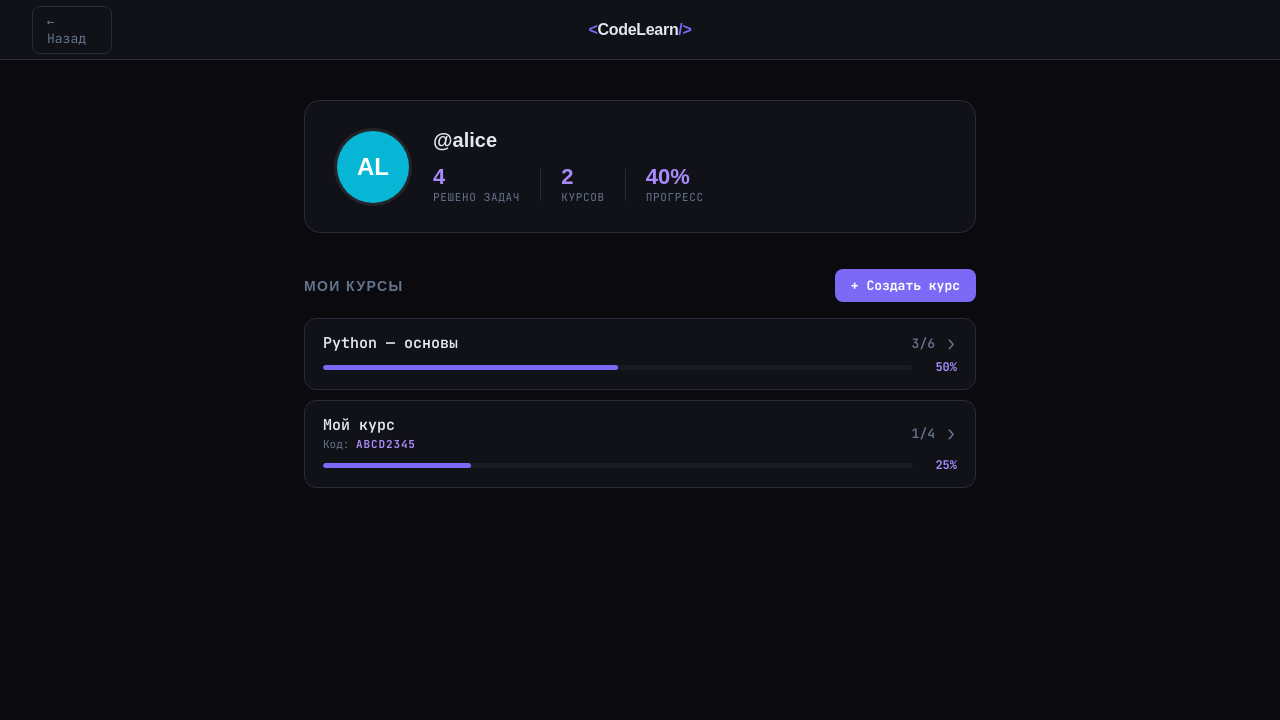
Test case: создание курса › успех: данные уходят в API, показывается код доступа, список обновляется, «Готово» закрывает форму
expect the text "Python — основы" is shown: met, box [323,333,458,353]
Click the button "+ Создать курс" at point(905, 286), box [835,269,976,302]
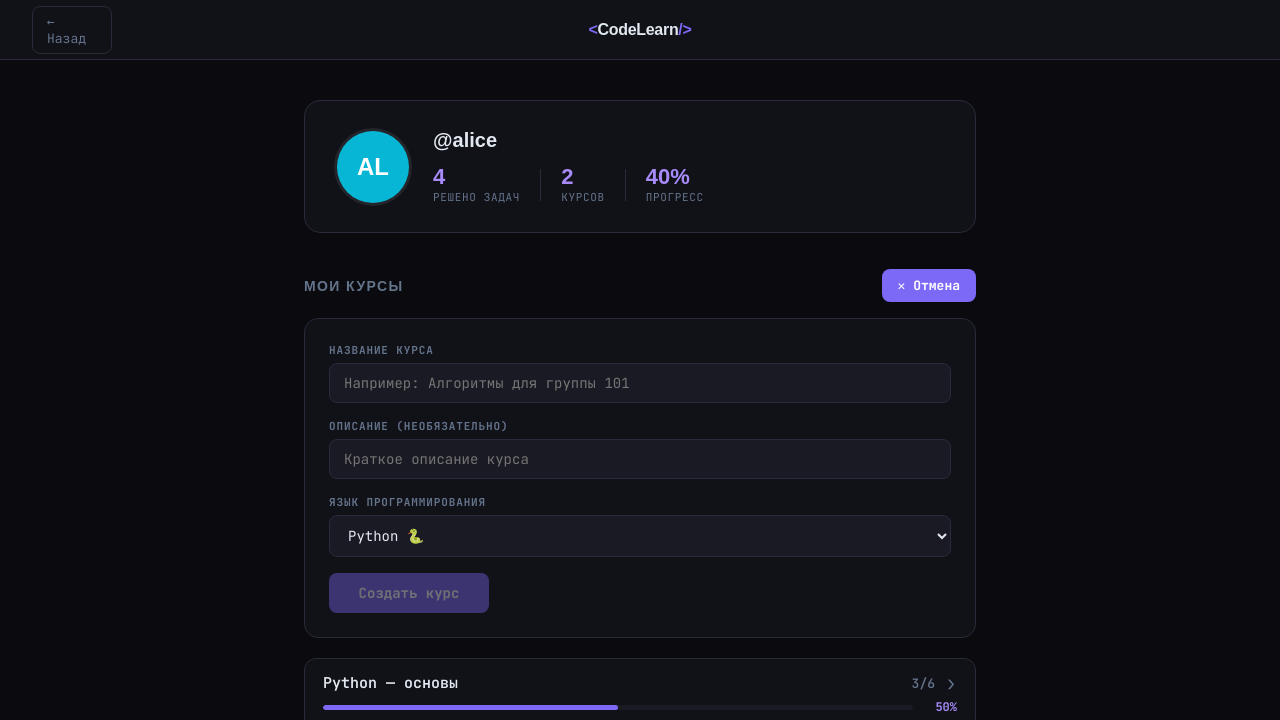
Type "Новый курс" into the field with placeholder "Например: Алгоритмы для группы 101" at point(640, 383), box [329,363,951,403]
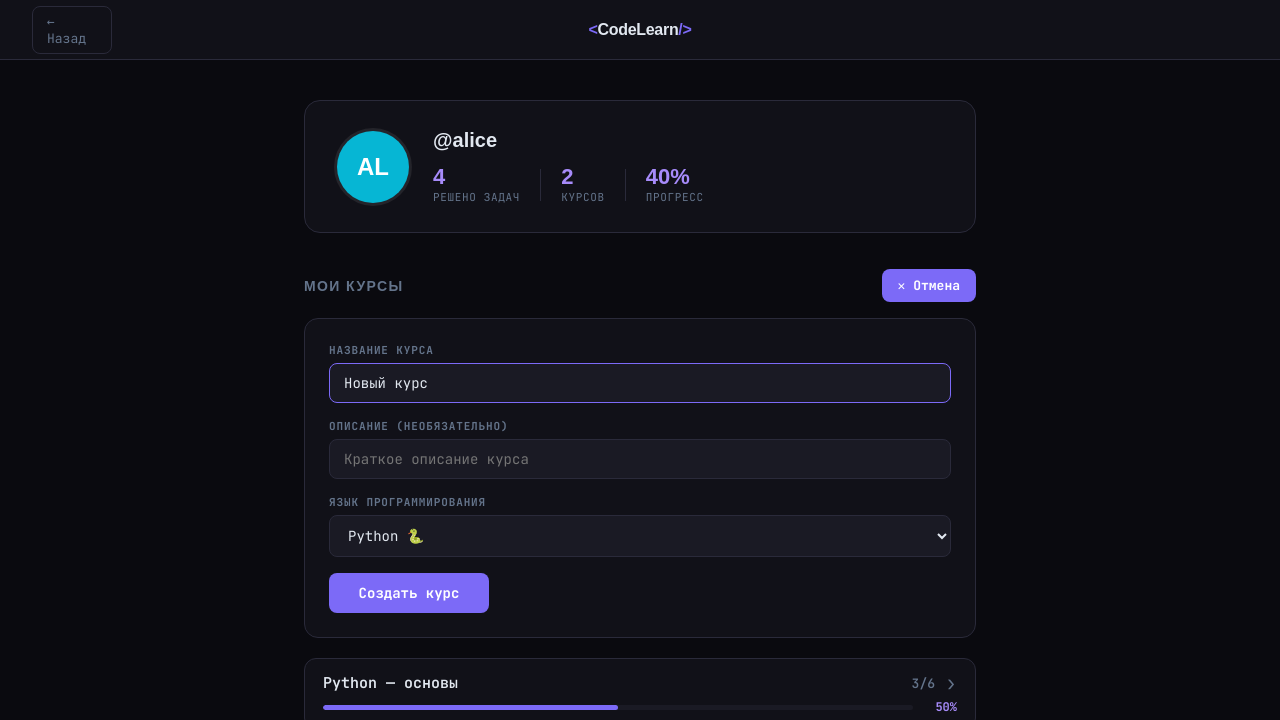
Type "О курсе" into the field with placeholder "Краткое описание курса" at point(640, 459), box [329,439,951,479]
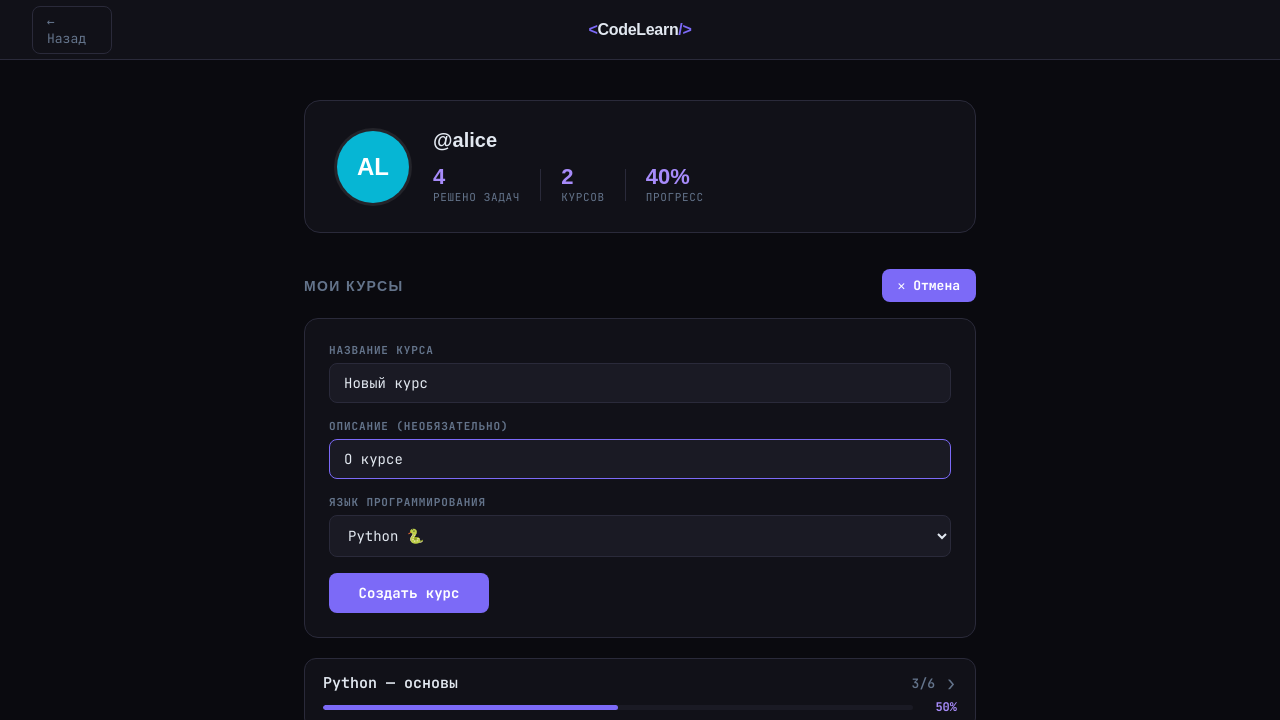
Select "JavaScript ⚡" in the dropdown at point(640, 536), box [329,515,951,557]
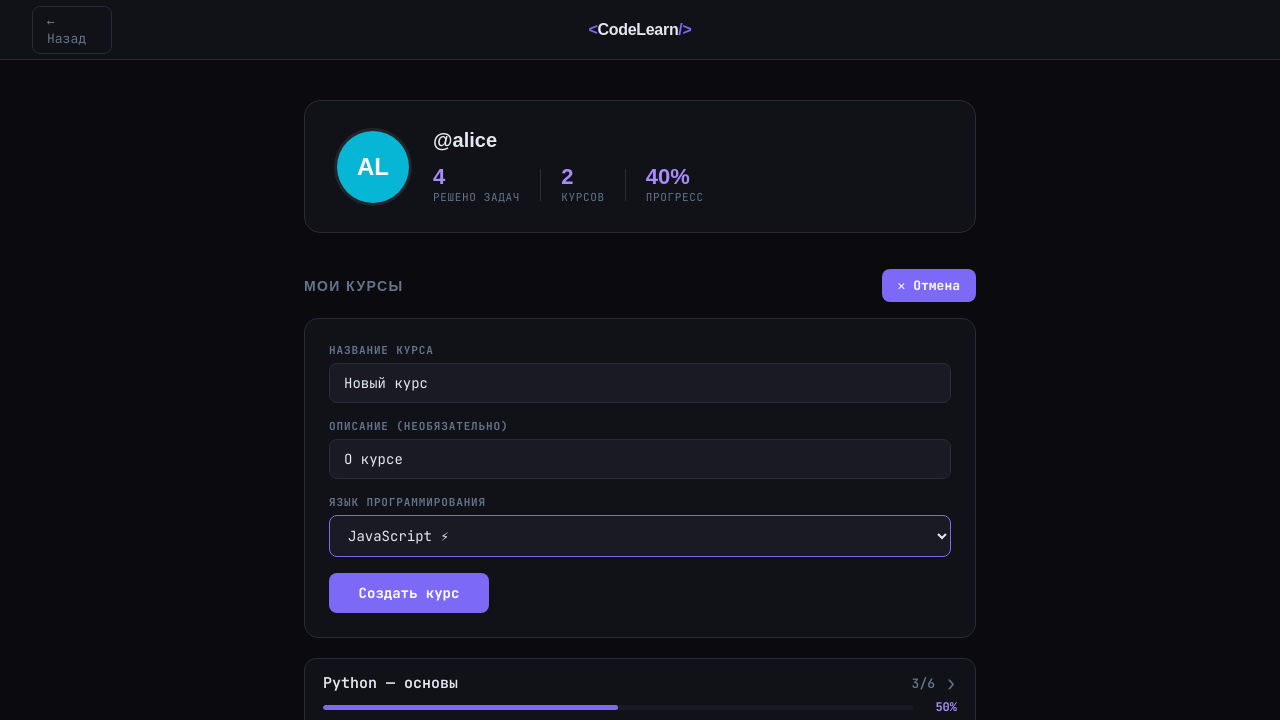
Click the button "Создать курс" at point(409, 593), box [329,573,489,613]
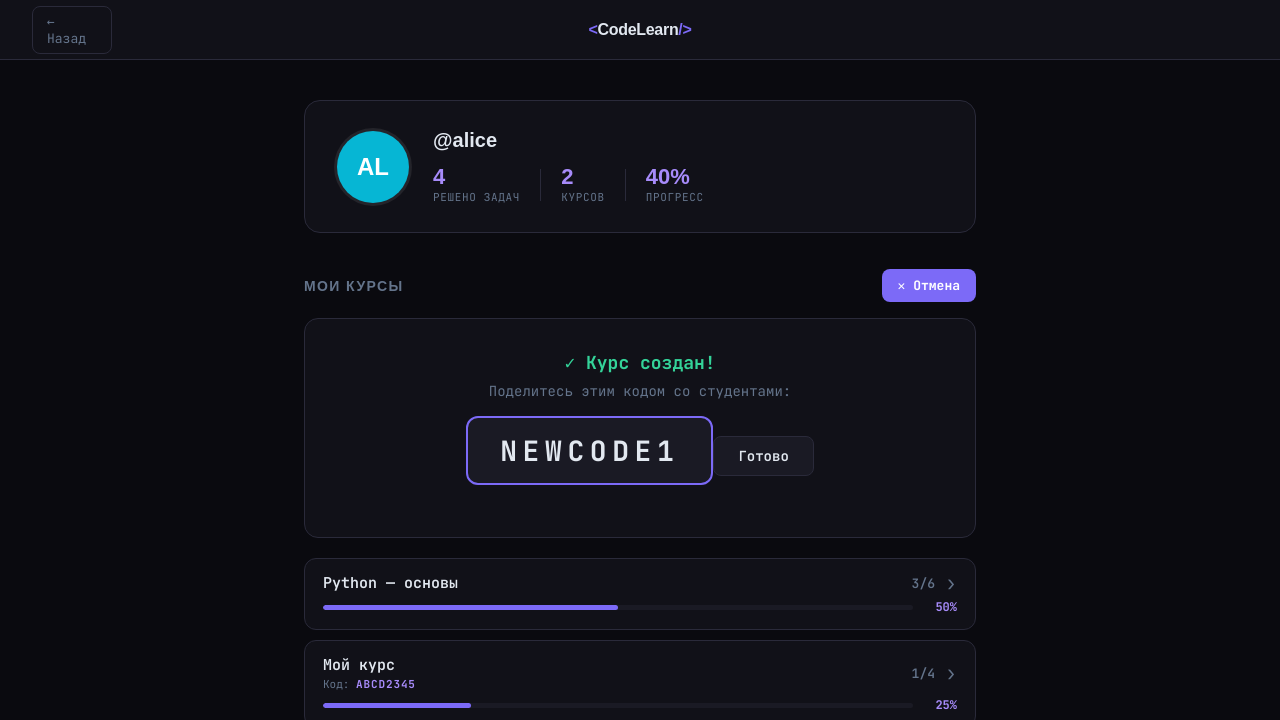
expect the text "NEWCODE1" is shown: met, box [466,416,713,485]
Click the button "Готово" at point(764, 456), box [713,436,814,476]
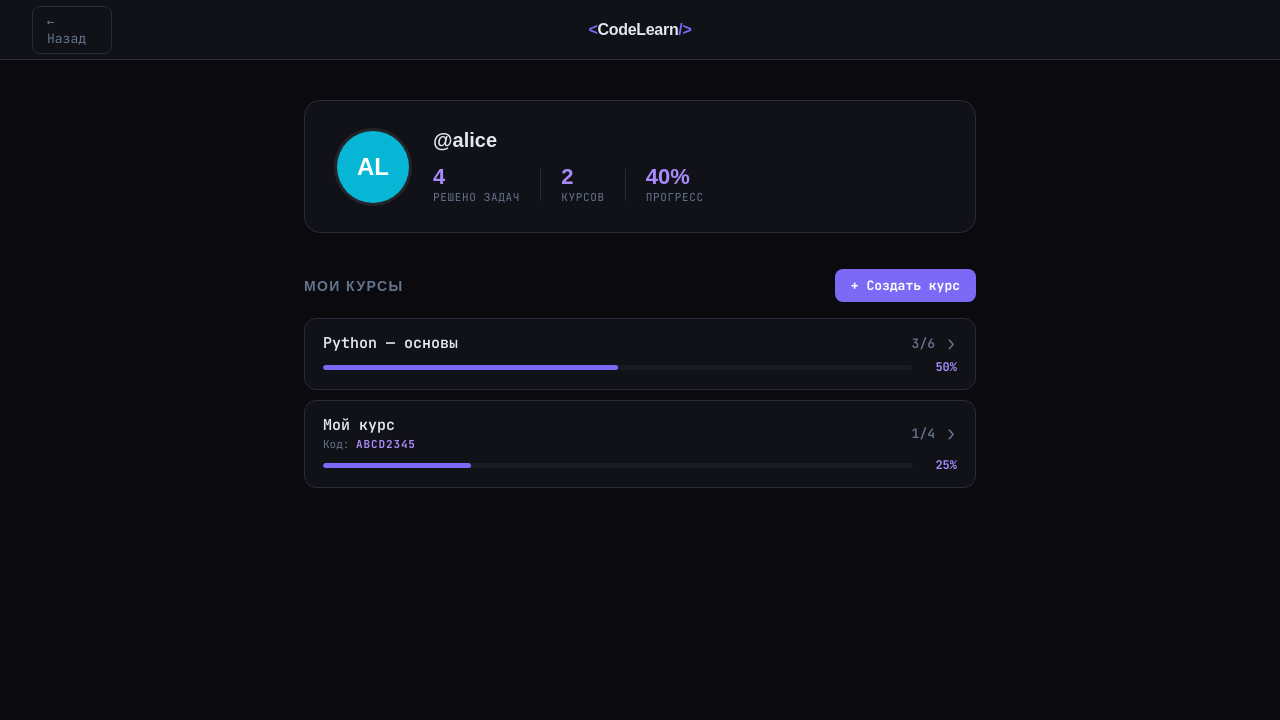
expect the text "NEWCODE1" is gone: met
